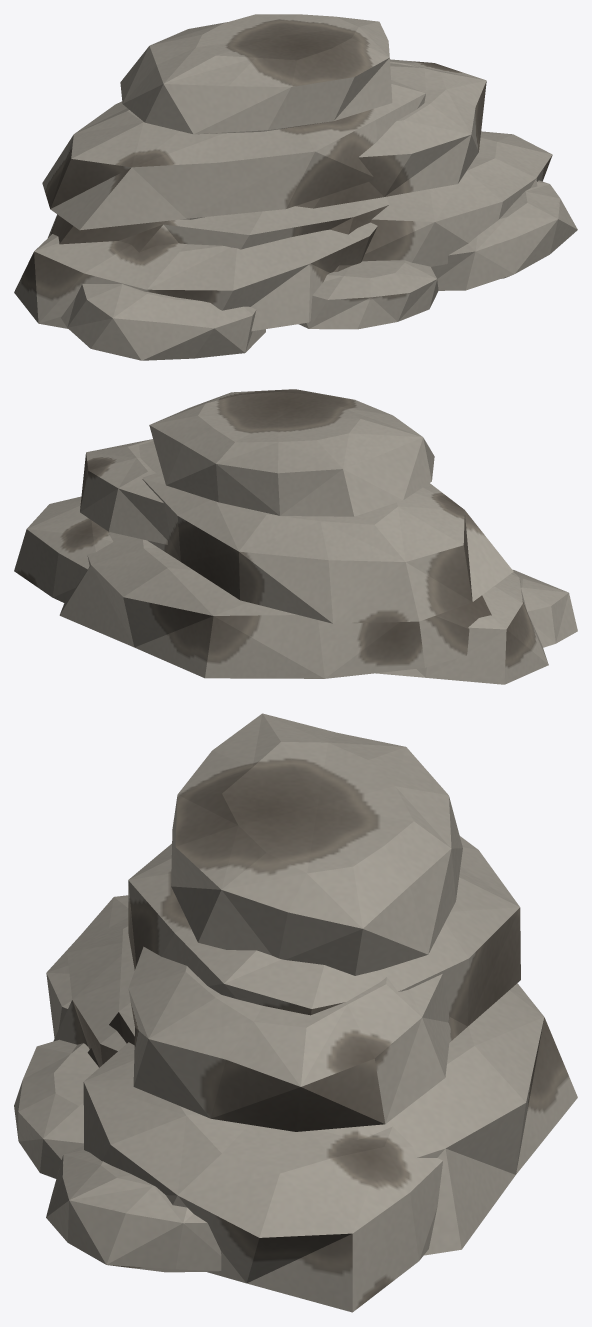
File: CommonStone_Deposit_A.fbx
The picture shows the model from 3 angles, top to bottom: view 1: azimuth 30°, elevation 25°; view 2: azimuth 150°, elevation 25°; view 3: azimuth 270°, elevation 25°; orthographic projection. The views are drawn at different scales.
Visible parts, largest first — view 1: CommonStone_Deposit_A_LOD0; view 2: CommonStone_Deposit_A_LOD0; view 3: CommonStone_Deposit_A_LOD0.
Part boxes in pixels (x1,y1,x2,y2): CommonStone_Deposit_A_LOD0: (14, 14, 577, 360); CommonStone_Deposit_A_LOD0: (14, 389, 577, 684); CommonStone_Deposit_A_LOD0: (14, 713, 577, 1312).
Size of what is drawn, in the model's own units: 349 by 152 by 221.
